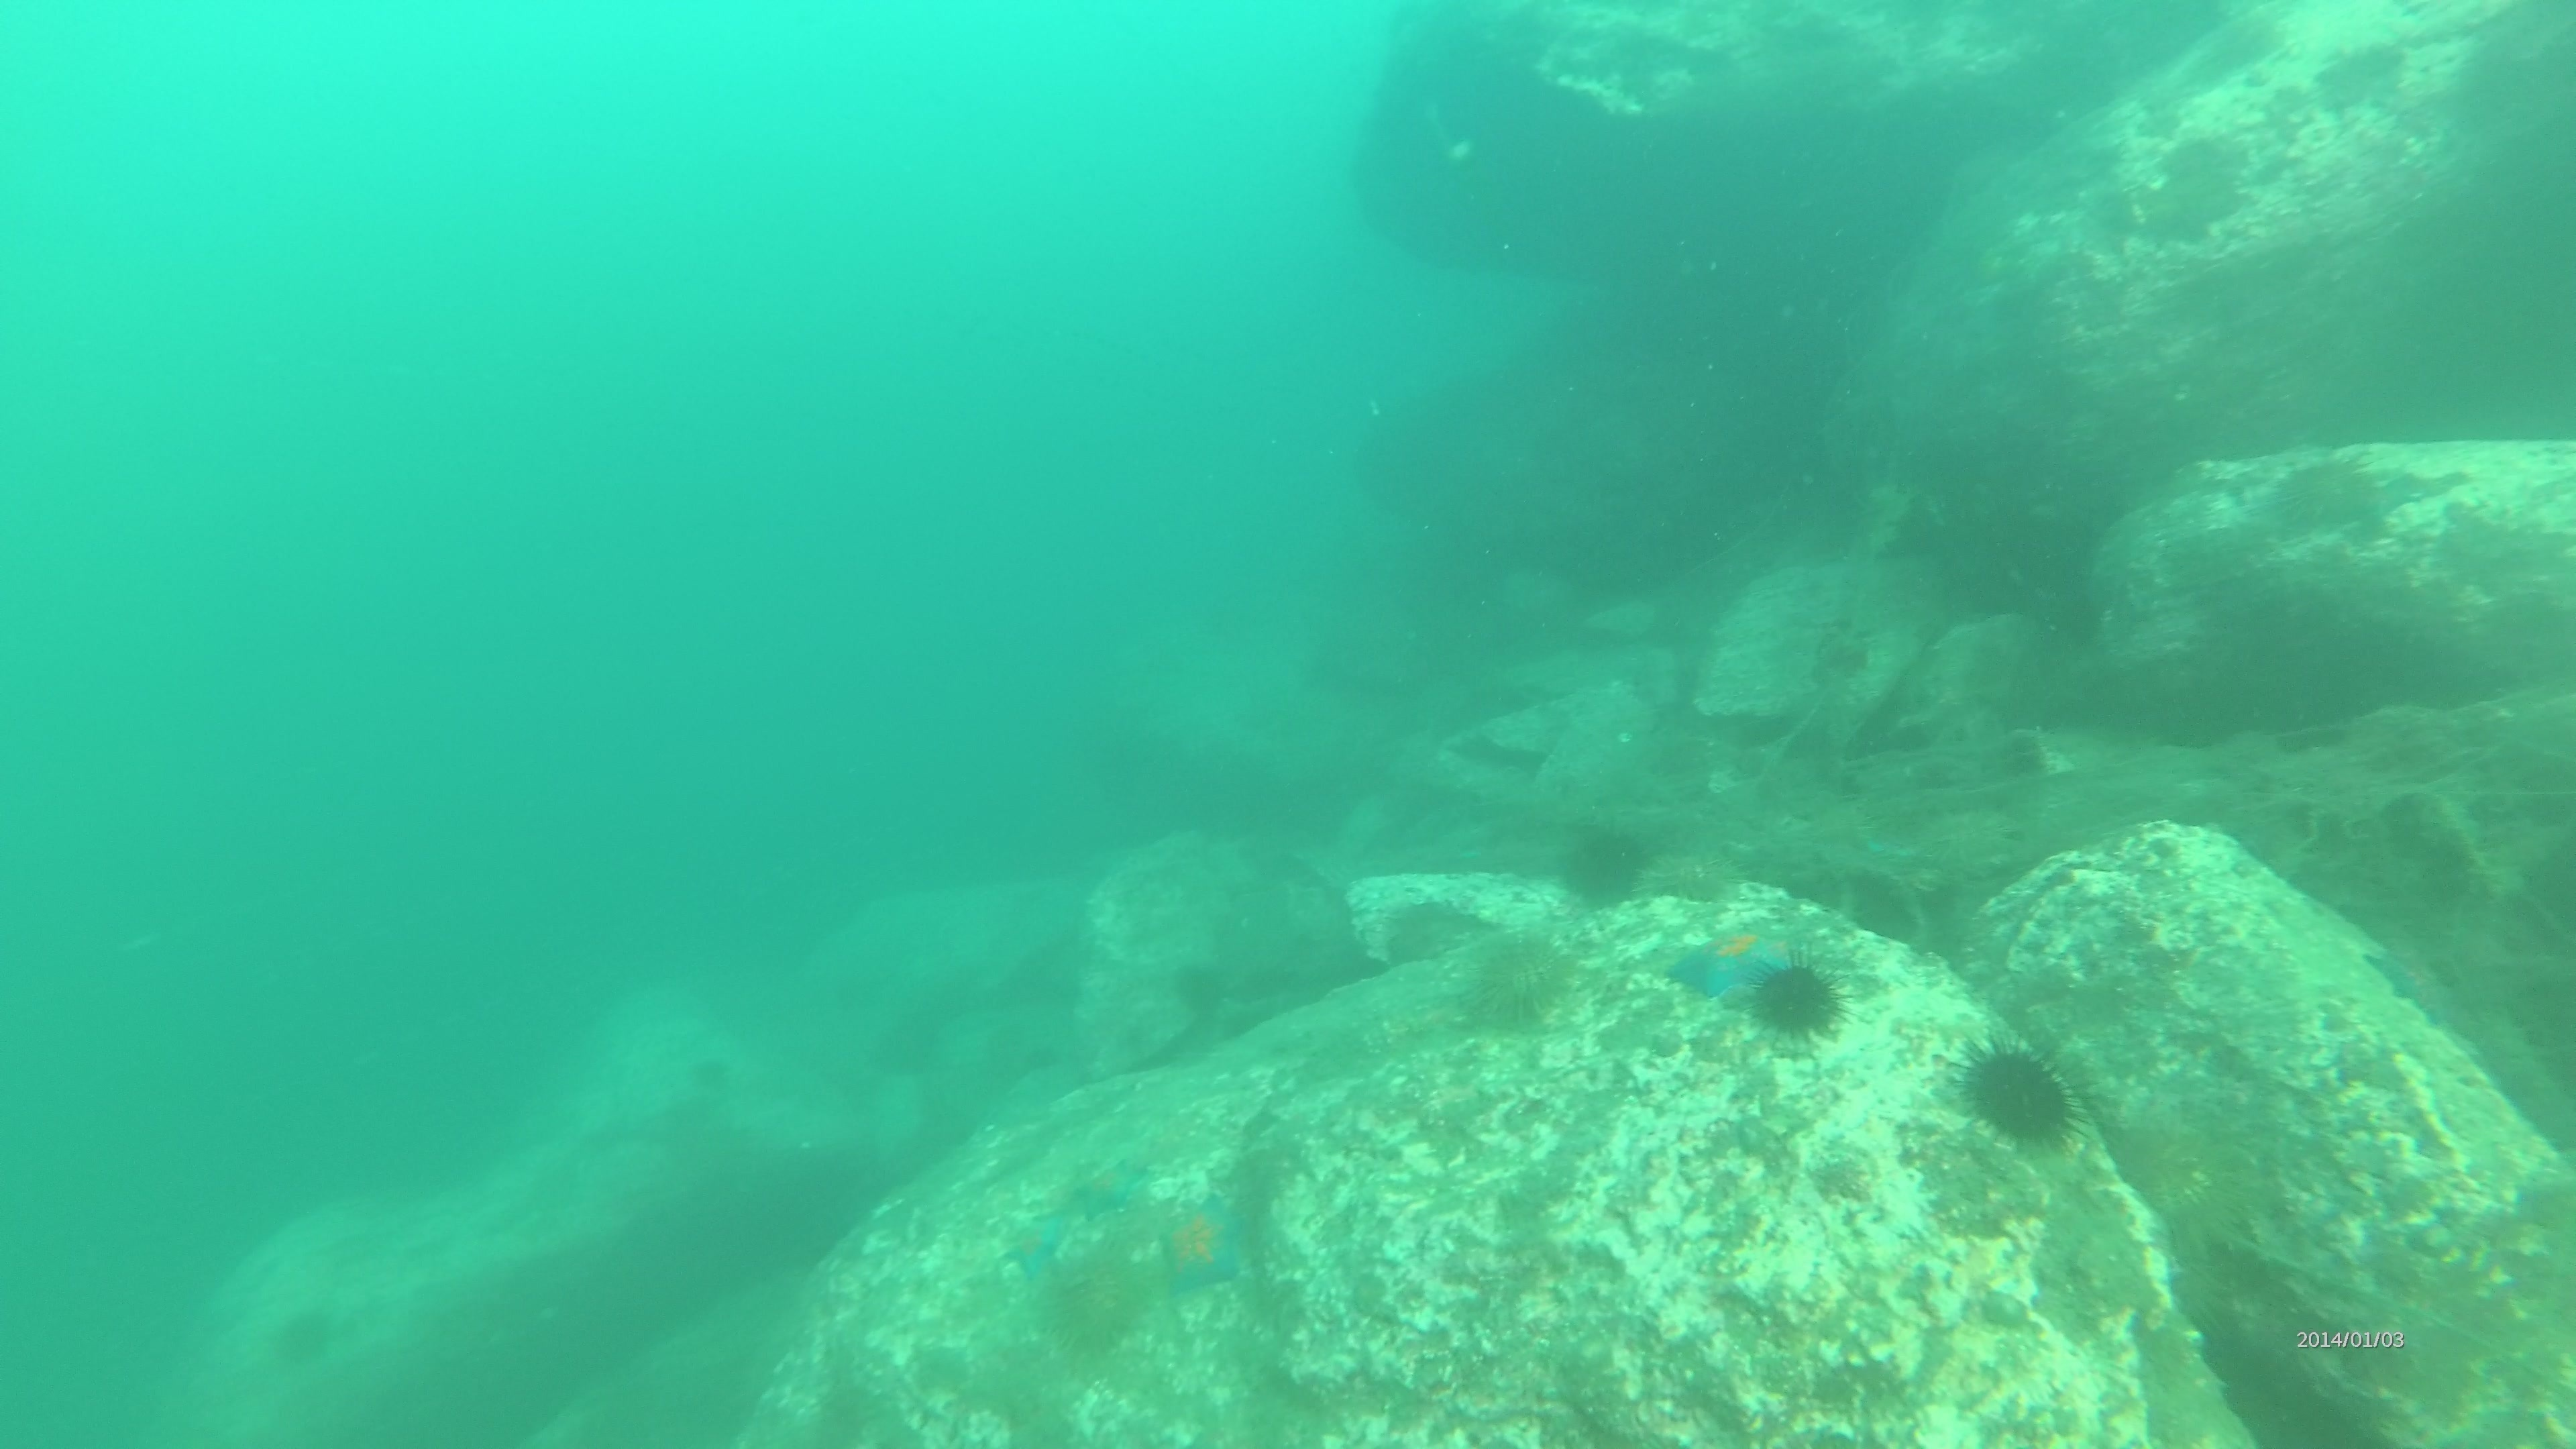echinus: (1950, 1030, 2089, 1155), (1035, 1233, 1157, 1362), (1447, 922, 1582, 1039), (2263, 448, 2390, 545), (1743, 950, 1852, 1049), (1552, 816, 1658, 911), (265, 1300, 343, 1375)
starfish: (1145, 1185, 1260, 1302), (1663, 911, 1801, 1007), (1000, 1196, 1088, 1292), (1056, 1148, 1155, 1226)
